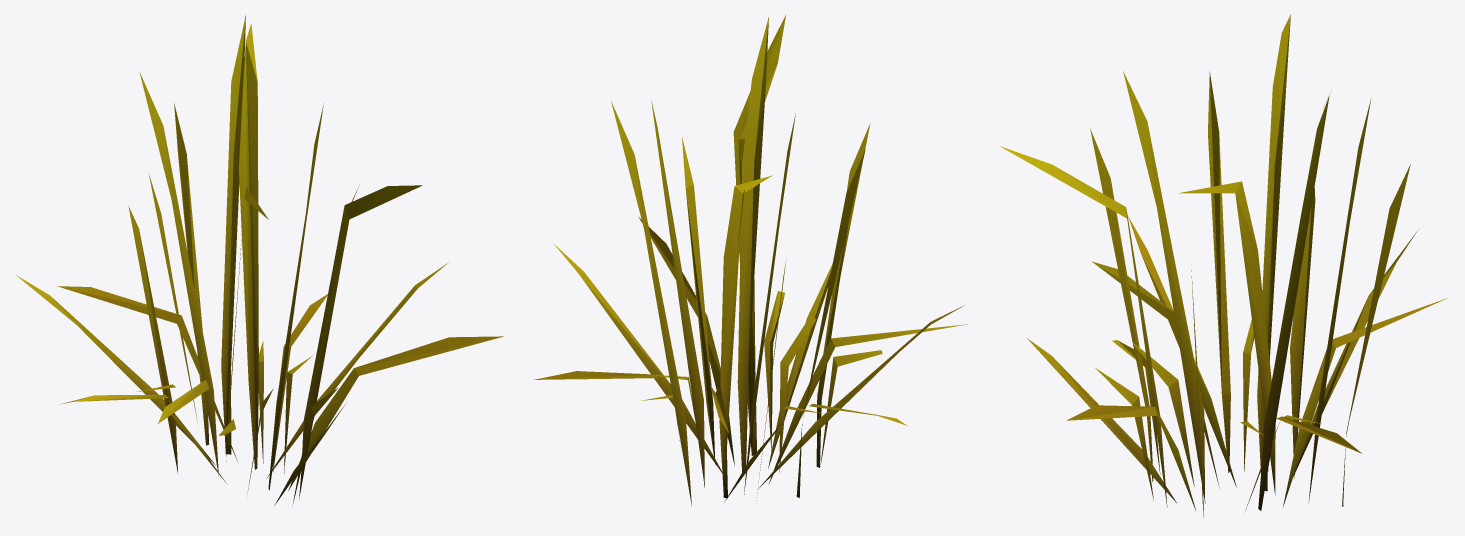
File: grass-wispy.glb
The picture shows the model from 3 angles, left to right: view 1: azimuth 30°, elevation 25°; view 2: azimuth 150°, elevation 25°; view 3: azimuth 270°, elevation 25°; orthographic projection. The views are drawn at different scales.
Parts seen in each view (by area): view 1: Grass_Wispy_Tall; view 2: Grass_Wispy_Tall; view 3: Grass_Wispy_Tall.
Part boxes in pixels (<box>): Grass_Wispy_Tall: <box>15,15,503,506</box>; Grass_Wispy_Tall: <box>534,14,967,505</box>; Grass_Wispy_Tall: <box>999,14,1447,517</box>.
Bounding box in the file's own units: 1.54 × 1.66 × 1.52.
Materials: 1 (1 with a texture image).
